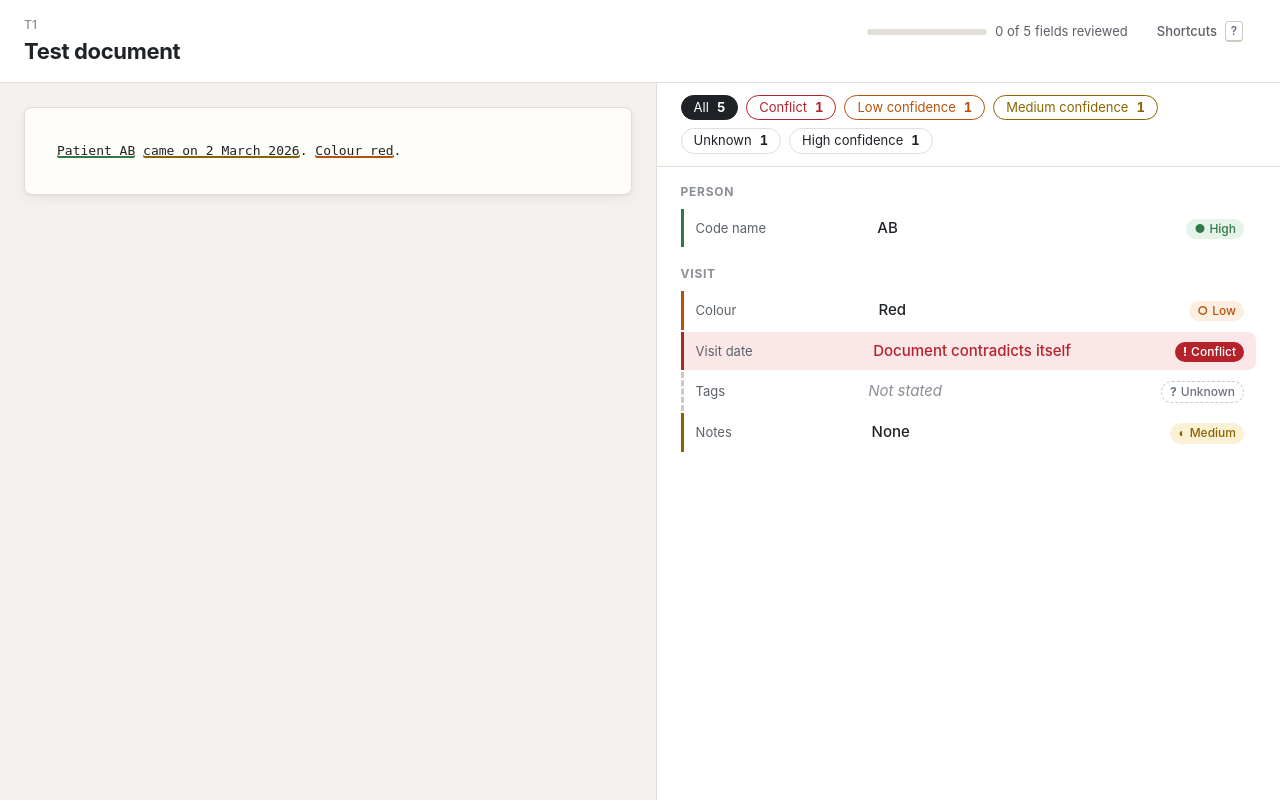
ReviewScreen › highlights the selected field quote and selects a field from its quote
The width and height of the screenshot is (1280, 800).
Click the text "Colour red": (354, 150) [315,142,394,158]
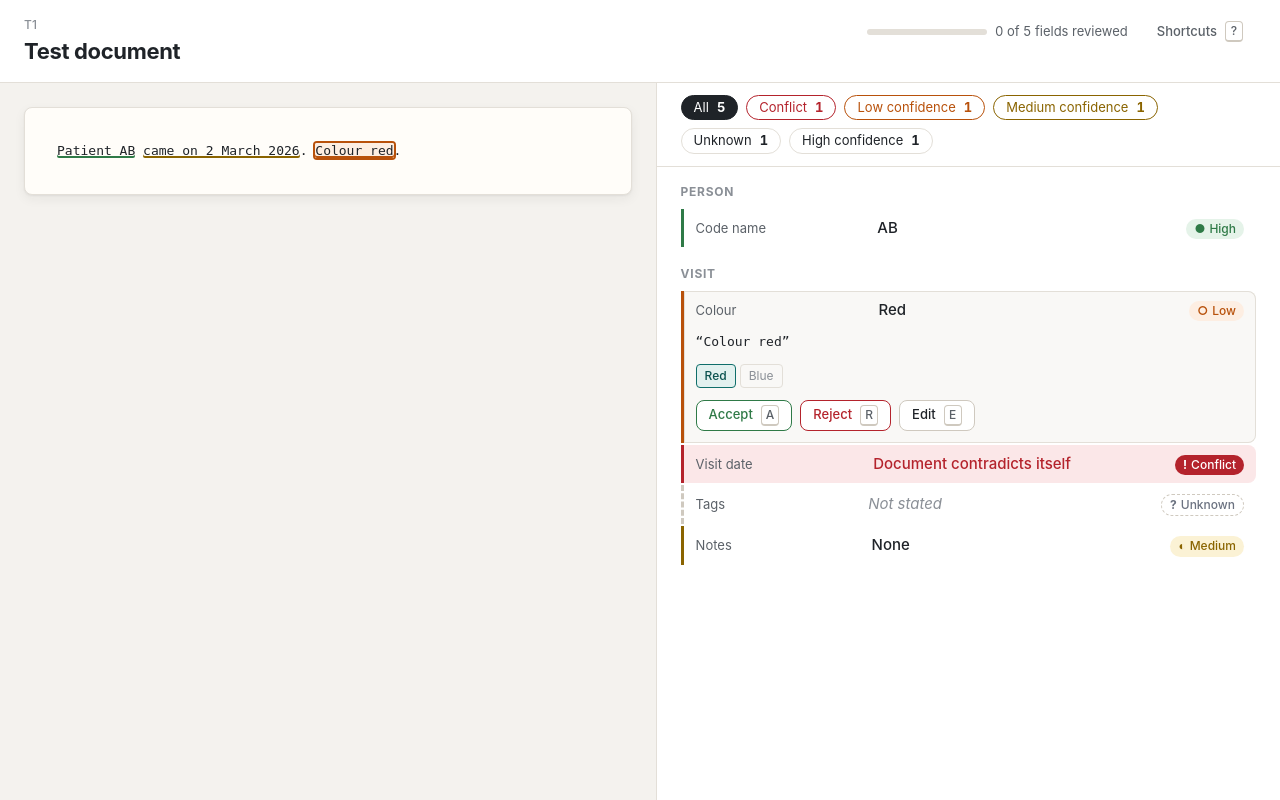
Expected: the text with class "field-row__label" reads "Colour", [696,302,736,318]
Result: the text "Colour red" next to "came on 2 March 2026" has class "is-selected" at [315,142,394,158]
